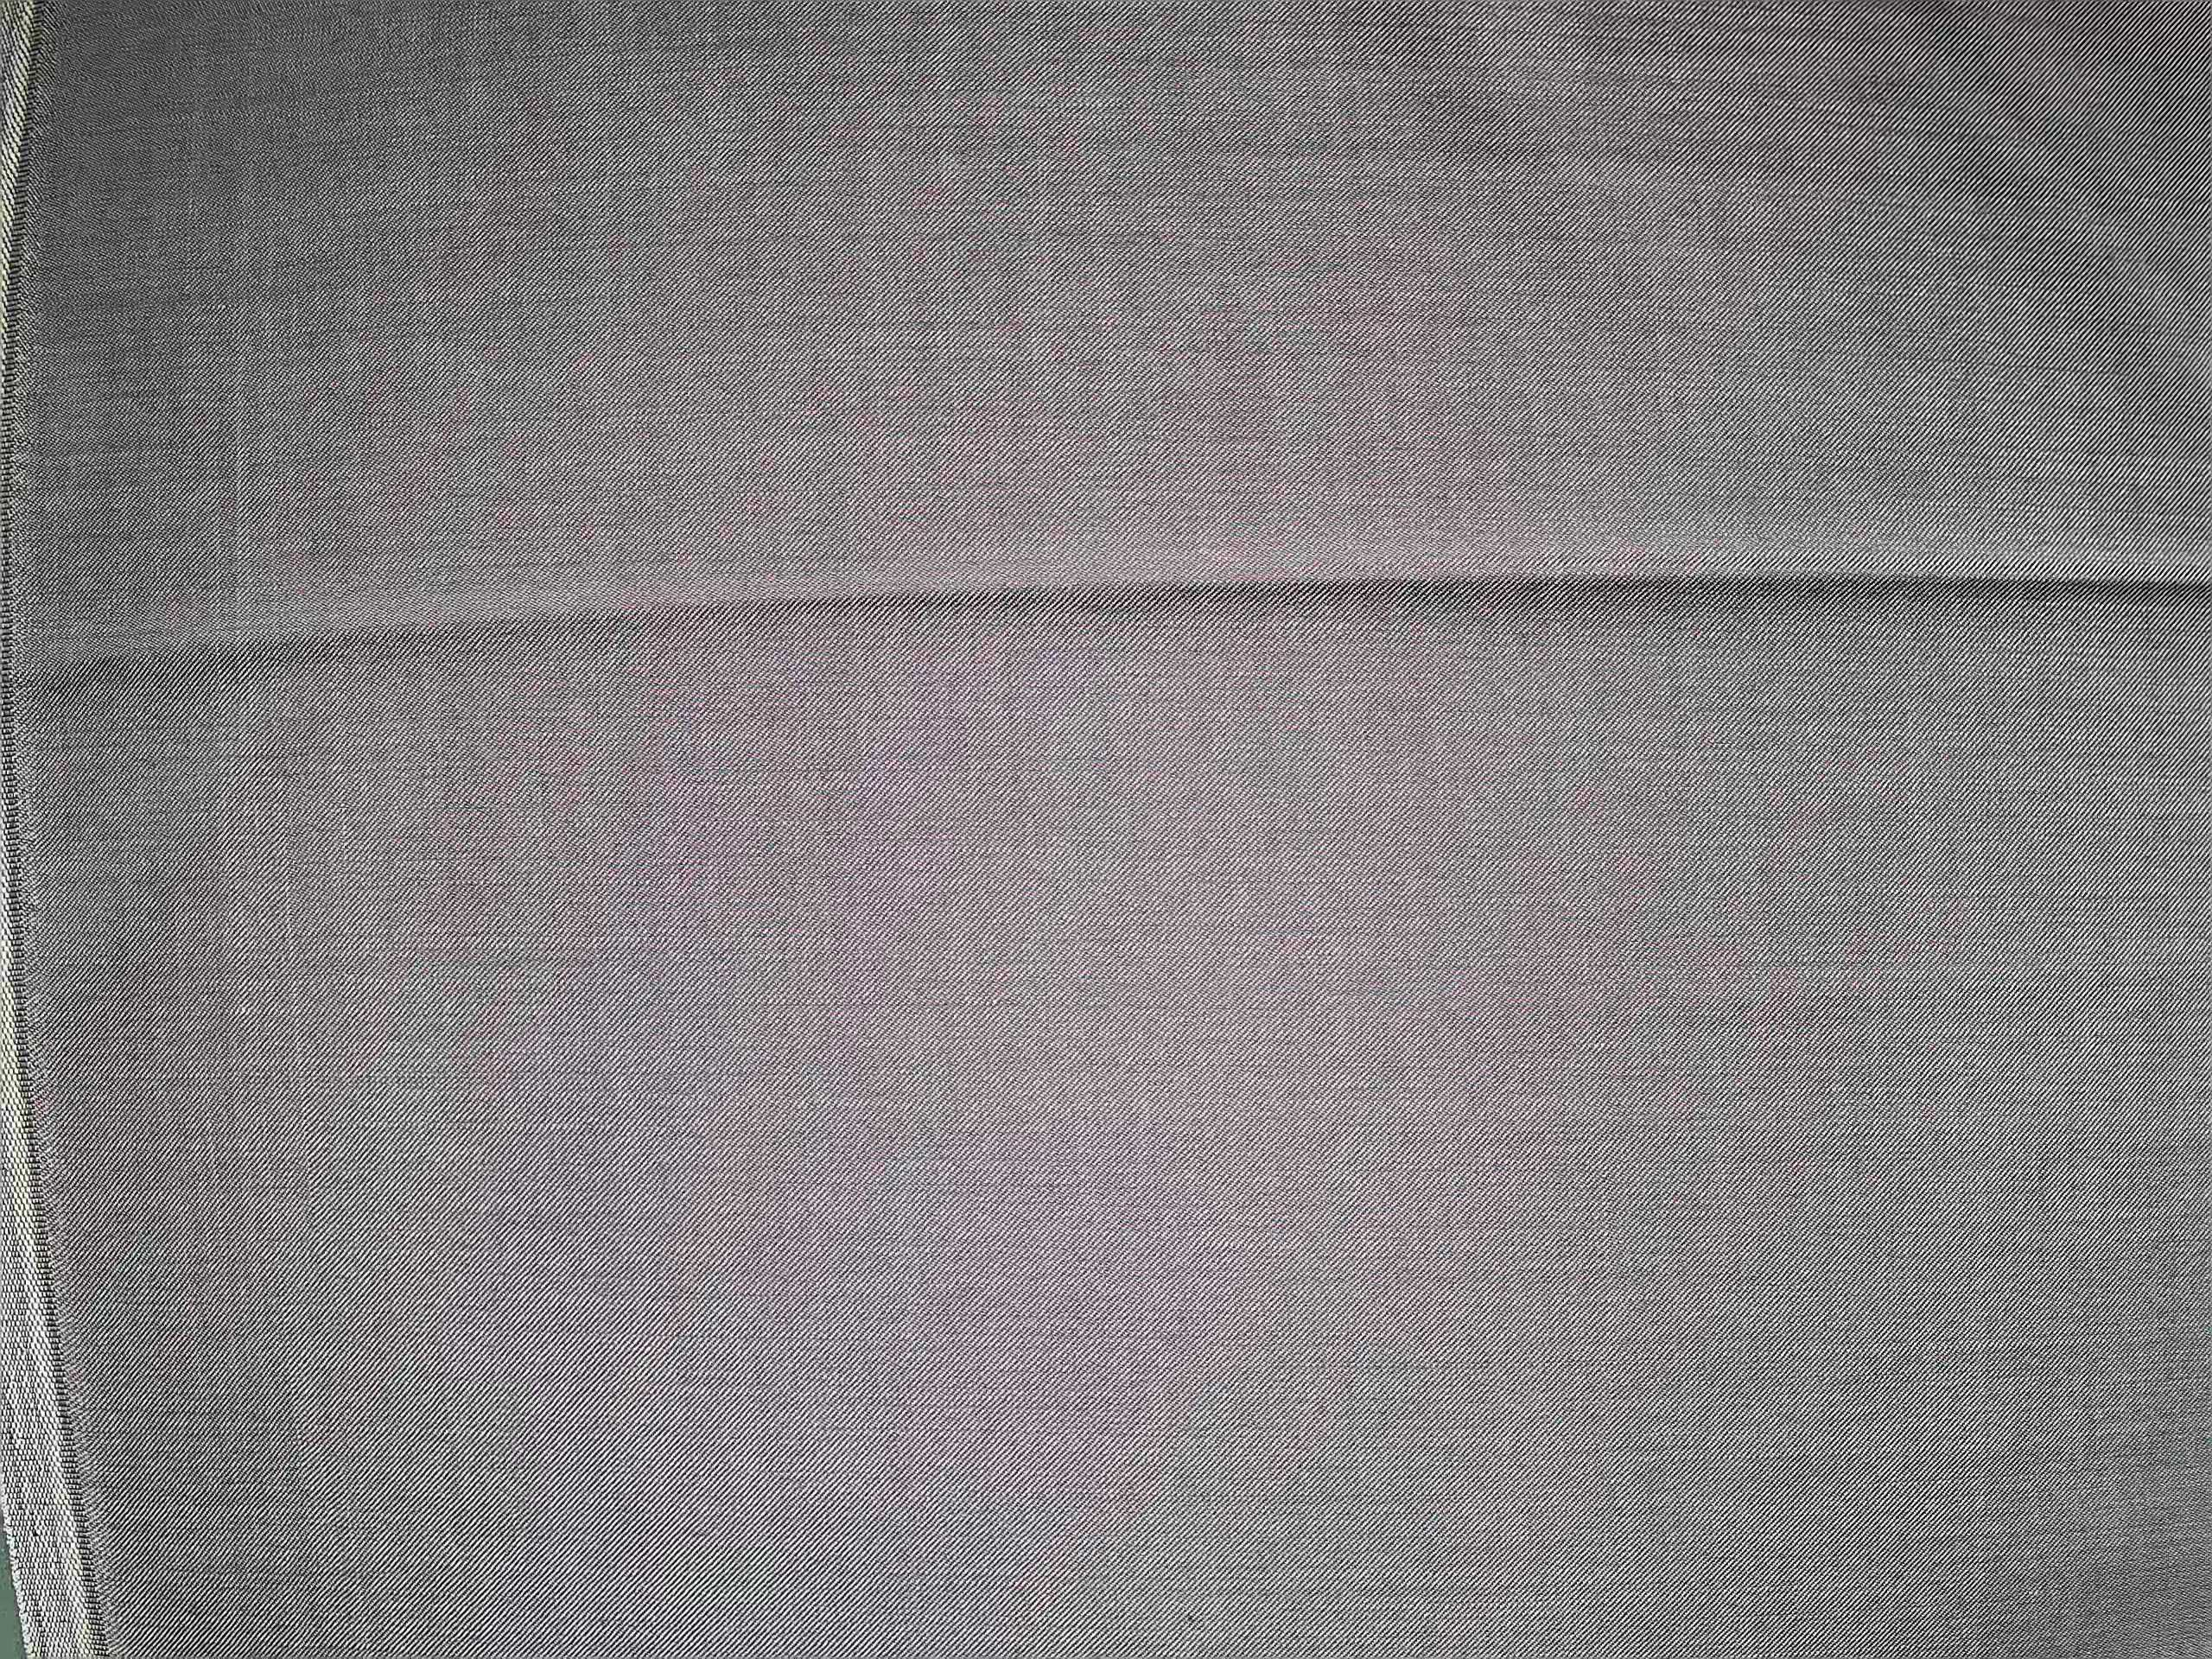hanging-warp: (197, 218, 320, 1466)
